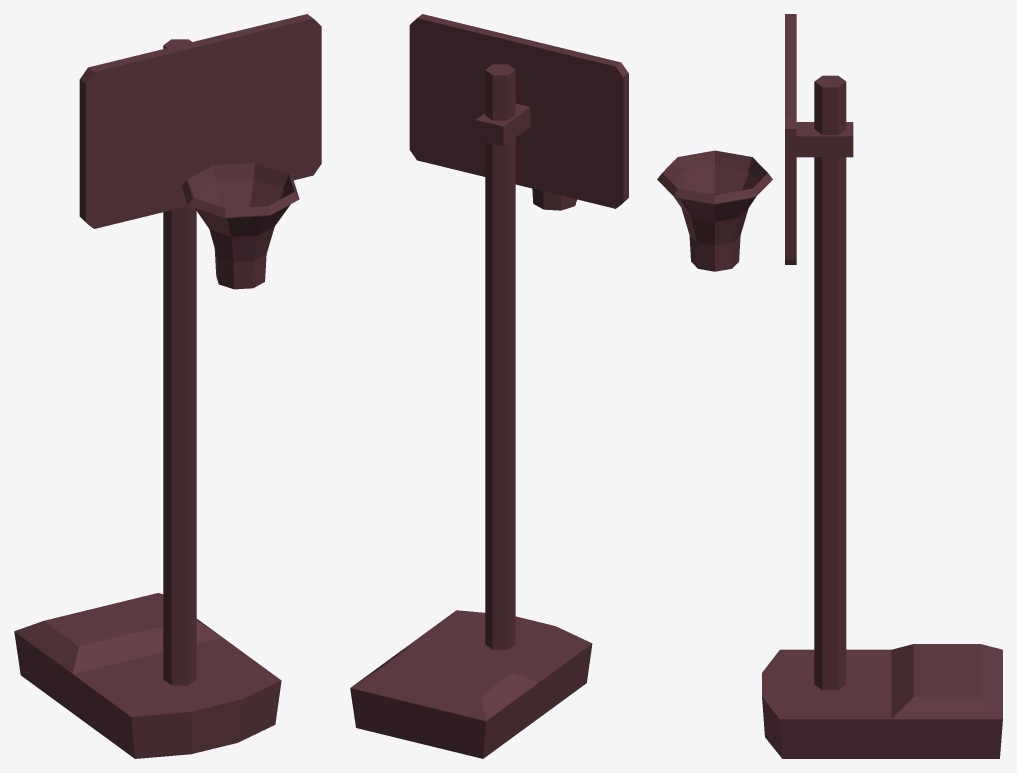
Rendered from basketball-stand.fbx.
The picture shows the model from 3 angles, left to right: view 1: azimuth 30°, elevation 25°; view 2: azimuth 150°, elevation 25°; view 3: azimuth 270°, elevation 25°; orthographic projection. The views are drawn at different scales.
Parts seen in each view (by area): view 1: basketball-stand; view 2: basketball-stand; view 3: basketball-stand.
Part boxes in pixels (left/top/right/bottom): basketball-stand: left=14, top=14, right=321, bottom=758; basketball-stand: left=350, top=14, right=628, bottom=758; basketball-stand: left=657, top=14, right=1002, bottom=758.
Size of the model in its own units: 1.1 by 3.1 by 1.47.
